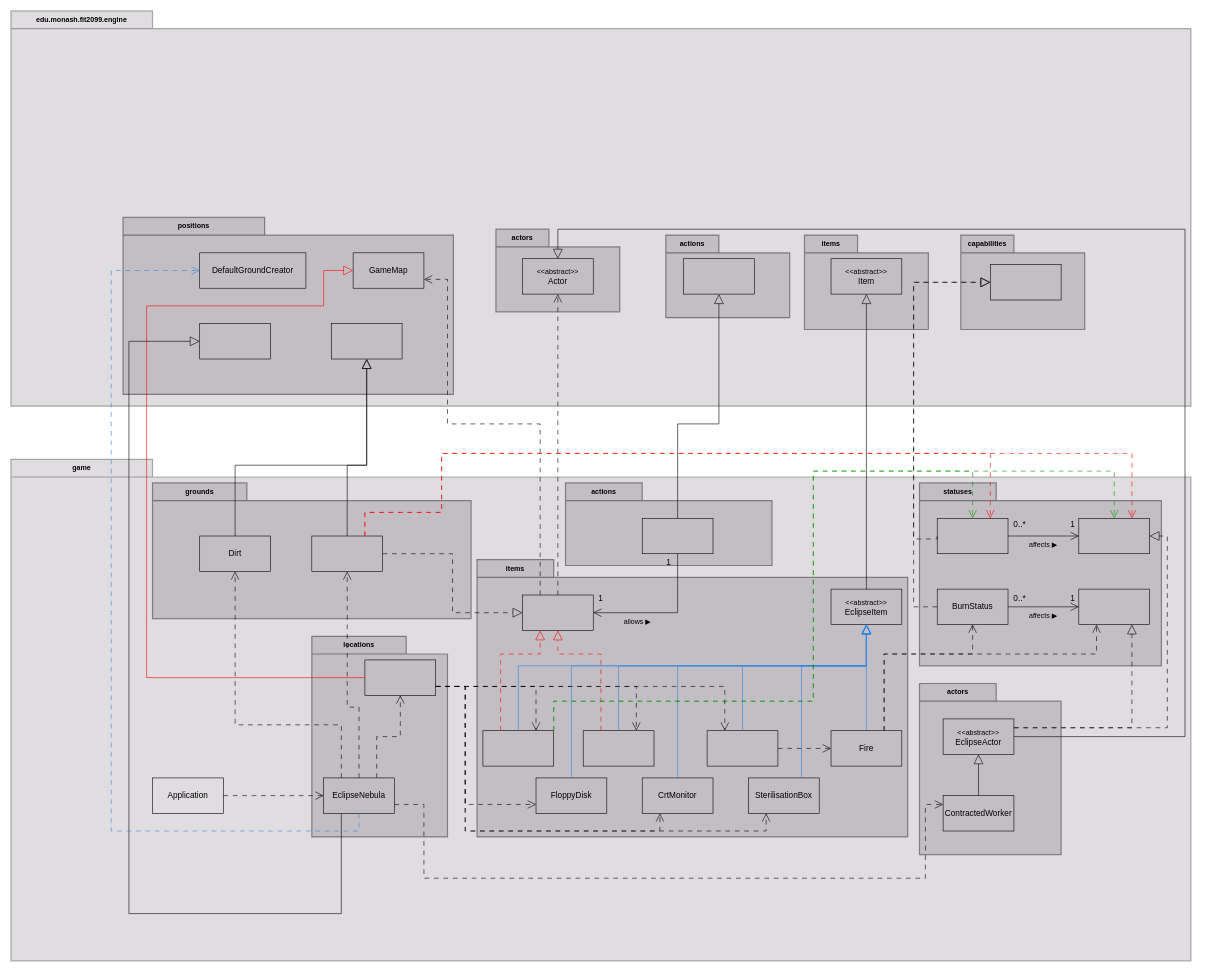
This 1205x971 diagram has some shape labels left out. Here are the shapes that lost their labels. From the top down, the centre of each, then its label:
the point at 718,276: <<abstract>> Action
the point at 1025,282: <<interface>> Status
the point at 235,341: <<abstract>> World
the point at 366,341: <<abstract>> Ground
the point at 347,553: Puddle
the point at 677,536: ConsumeAction
the point at 972,536: PoisonStatus
the point at 1114,536: <<interface>> Poisonable
the point at 557,612: <<interface>> Consumable
the point at 1114,607: <<interface>> Flammable
the point at 400,677: Deprecated99
the point at 518,748: Apple
the point at 618,748: CookiePack
the point at 742,748: Lantern
